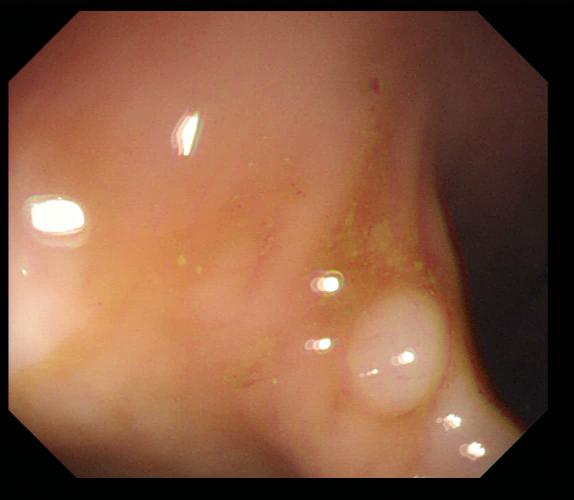polyp: (343, 290, 450, 426)
